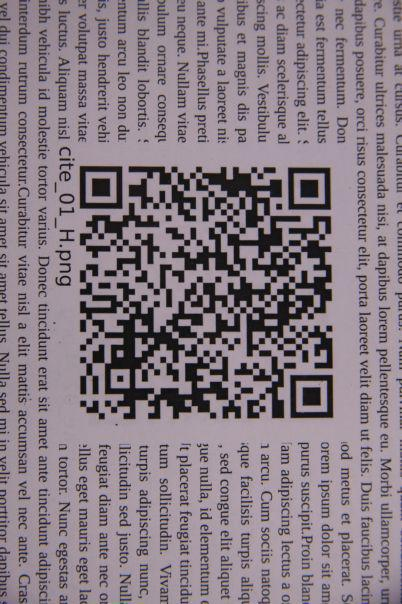Finder pattern: (287, 367, 339, 423), (77, 161, 130, 213), (283, 162, 333, 215)
